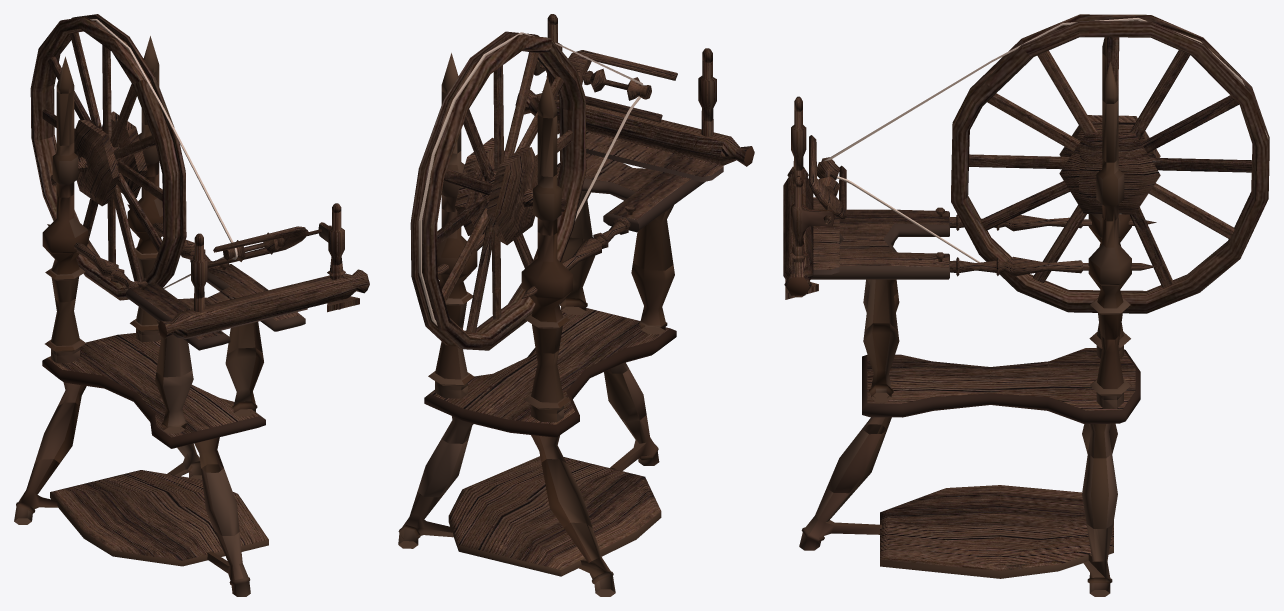
File: SpinningWheelAnimation_Modular.glb
The picture shows the model from 3 angles, left to right: view 1: azimuth 30°, elevation 25°; view 2: azimuth 150°, elevation 25°; view 3: azimuth 270°, elevation 25°; orthographic projection. The views are drawn at different scales.
Visible parts, largest first — view 1: BA_Wall_04, BA_Floor_01, BA_Trim_01, BA_Wall_01, BA_Trim_02, BA_Wall_03, BA_Roof_01, BA_Wall_02, BA_Floor_02; view 2: BA_Wall_04, BA_Floor_01, BA_Trim_01, BA_Wall_01, BA_Trim_02, BA_Wall_03, BA_Roof_01, BA_Wall_02, BA_Floor_02; view 3: BA_Wall_04, BA_Floor_01, BA_Trim_01, BA_Wall_01, BA_Trim_02, BA_Wall_03, BA_Roof_01, BA_Floor_02, BA_Wall_02.
Boxes of the visible parts, x1=… form: BA_Wall_04: x1=31, y1=135, x2=369, y2=350; BA_Floor_01: x1=14, y1=443, x2=268, y2=596; BA_Trim_01: x1=30, y1=83, x2=344, y2=298; BA_Wall_01: x1=42, y1=331, x2=265, y2=467; BA_Trim_02: x1=31, y1=41, x2=341, y2=246; BA_Wall_03: x1=44, y1=199, x2=262, y2=377; BA_Roof_01: x1=45, y1=14, x2=173, y2=127; BA_Wall_02: x1=45, y1=298, x2=263, y2=427; BA_Floor_02: x1=34, y1=402, x2=239, y2=535; BA_Wall_04: x1=411, y1=83, x2=754, y2=328; BA_Floor_01: x1=398, y1=415, x2=661, y2=596; BA_Trim_01: x1=410, y1=23, x2=716, y2=279; BA_Wall_01: x1=424, y1=298, x2=676, y2=463; BA_Trim_02: x1=412, y1=14, x2=712, y2=220; BA_Wall_03: x1=425, y1=191, x2=673, y2=353; BA_Roof_01: x1=426, y1=31, x2=571, y2=151; BA_Wall_02: x1=428, y1=237, x2=674, y2=413; BA_Floor_02: x1=417, y1=364, x2=646, y2=527; BA_Wall_04: x1=783, y1=166, x2=1268, y2=299; BA_Floor_01: x1=799, y1=450, x2=1113, y2=596; BA_Trim_01: x1=791, y1=110, x2=1269, y2=246; BA_Wall_01: x1=862, y1=347, x2=1140, y2=458; BA_Trim_02: x1=794, y1=53, x2=1267, y2=187; BA_Wall_03: x1=864, y1=230, x2=1240, y2=339; BA_Roof_01: x1=964, y1=14, x2=1238, y2=103; BA_Floor_02: x1=826, y1=423, x2=1117, y2=528; BA_Wall_02: x1=863, y1=293, x2=1130, y2=399.
Size of the model in its own units: 0.8743 by 1.82 by 1.52.
Materials: 1 (1 with a texture image).
